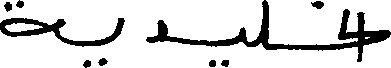ا: (336, 4, 352, 39), (356, 8, 365, 62)
ة: (0, 0, 51, 38)
خ: (310, 0, 388, 51)
د: (143, 17, 165, 43)
ل: (259, 0, 268, 51)
ي: (82, 16, 123, 67), (205, 25, 245, 67)
